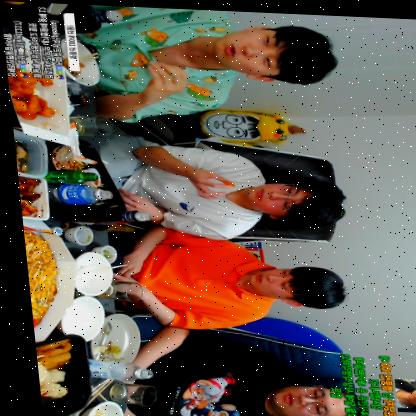donation: (318, 349, 416, 416)
streamer: (74, 3, 344, 128), (93, 130, 347, 242), (101, 225, 346, 332), (106, 324, 361, 416)
